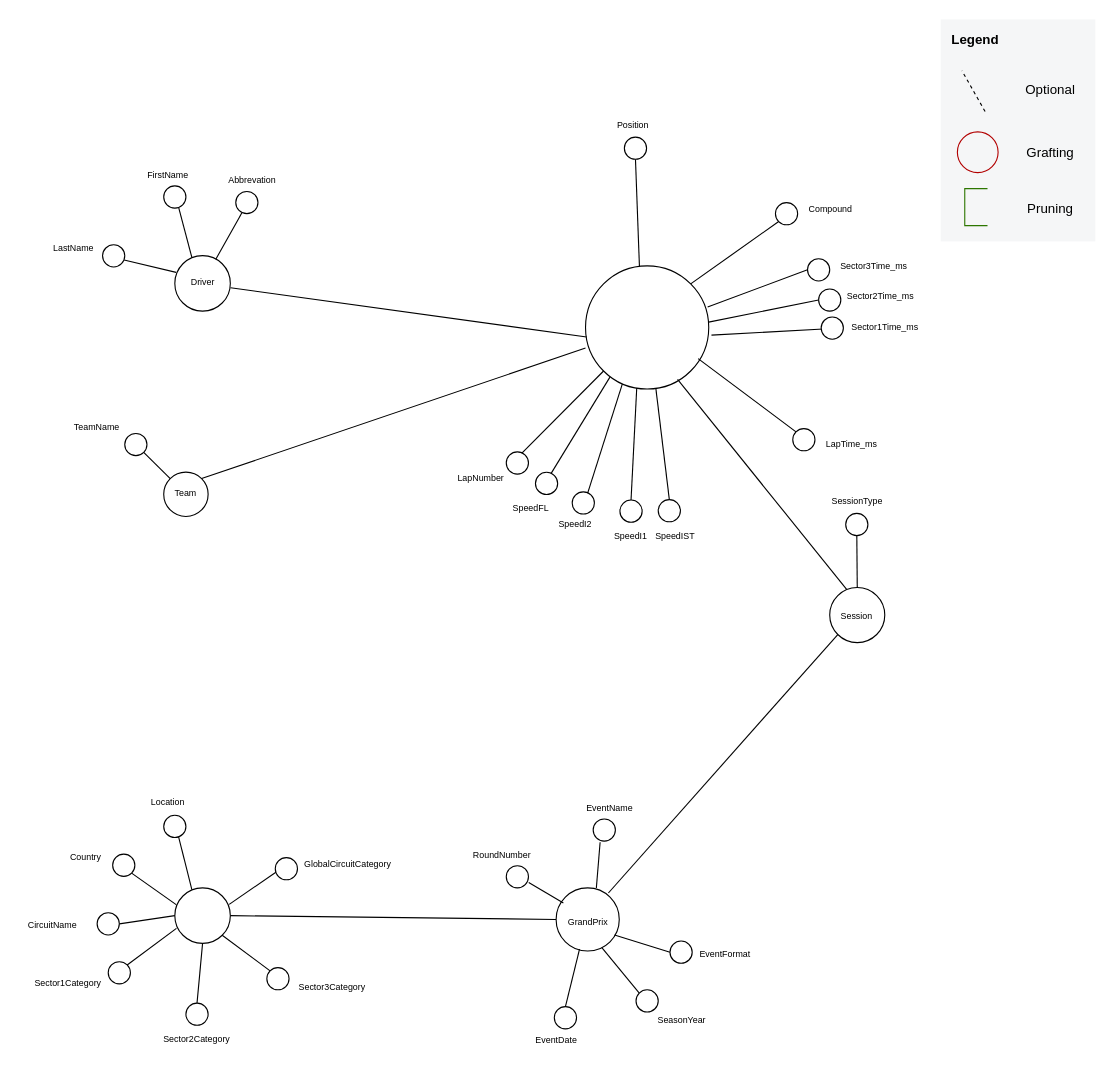
This 1114x1076 diagram has some shape labels left out. The centre of each missing label's shape, as x and y in pixels:
"Circuit" belongs at pixel 202 915.
"Lap" belongs at pixel 646 327.
